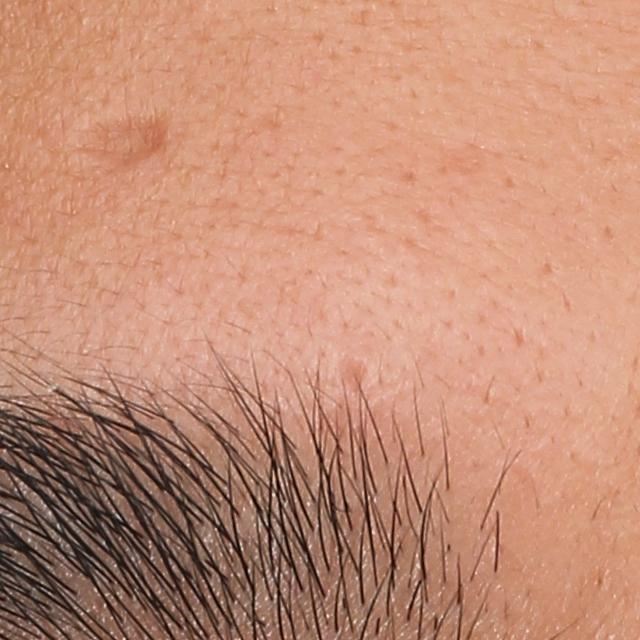atrophic_scar: (68, 114, 172, 176), (334, 352, 370, 393)
